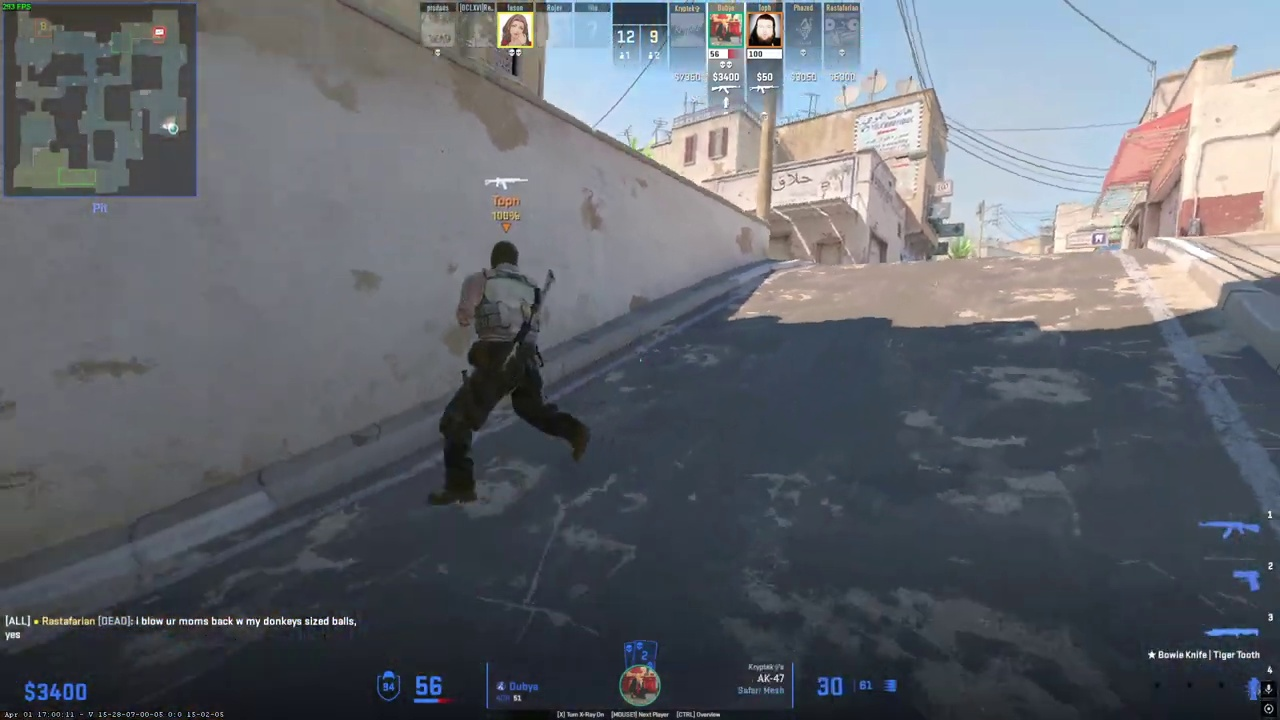Terrorist: (427, 240, 584, 506)
